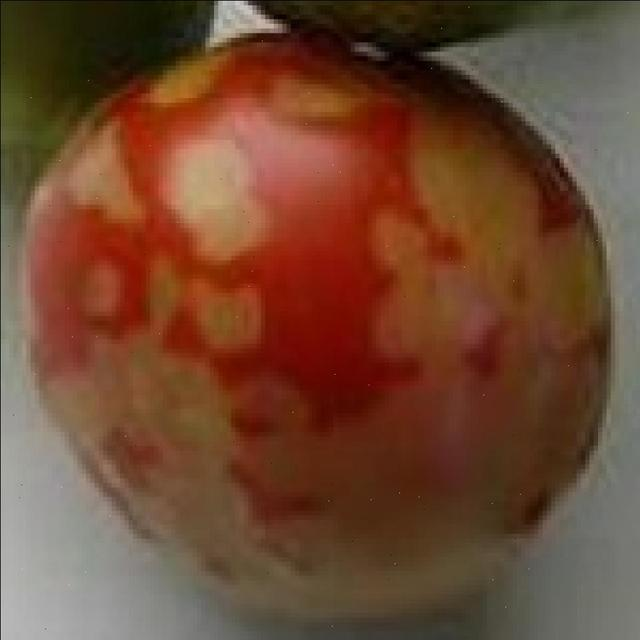Spotted wilt Virus Fruit: (73, 5, 121, 88)
